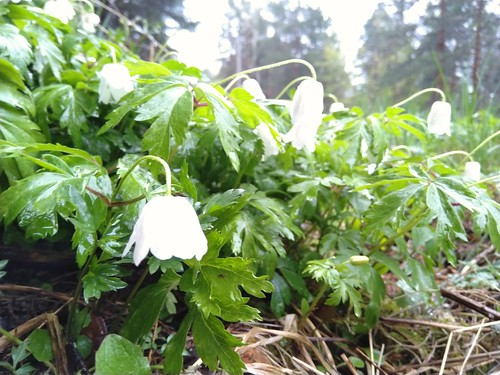vegetation: (1, 1, 500, 375)
